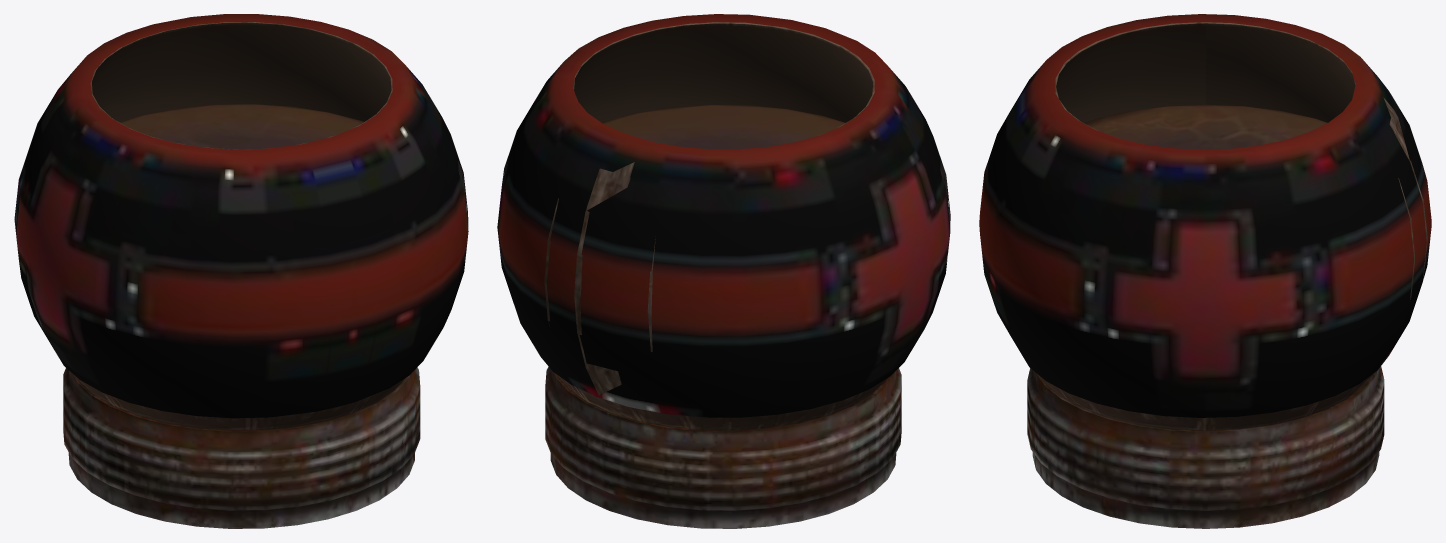
File: purehealingtea.glb
The picture shows the model from 3 angles, left to right: view 1: azimuth 30°, elevation 25°; view 2: azimuth 150°, elevation 25°; view 3: azimuth 270°, elevation 25°; orthographic projection.
Parts seen in each view (by area): view 1: PureHealingTea_LOD0; view 2: PureHealingTea_LOD0; view 3: PureHealingTea_LOD0.
Boxes of the visible parts, x1,y1,x2,y2 form: PureHealingTea_LOD0: (14, 14, 468, 528); PureHealingTea_LOD0: (497, 14, 950, 528); PureHealingTea_LOD0: (979, 14, 1431, 528).
Bounding box in the file's own units: 0.1105 × 0.0992 × 0.11.
Materials: 2 (2 with a texture image).
